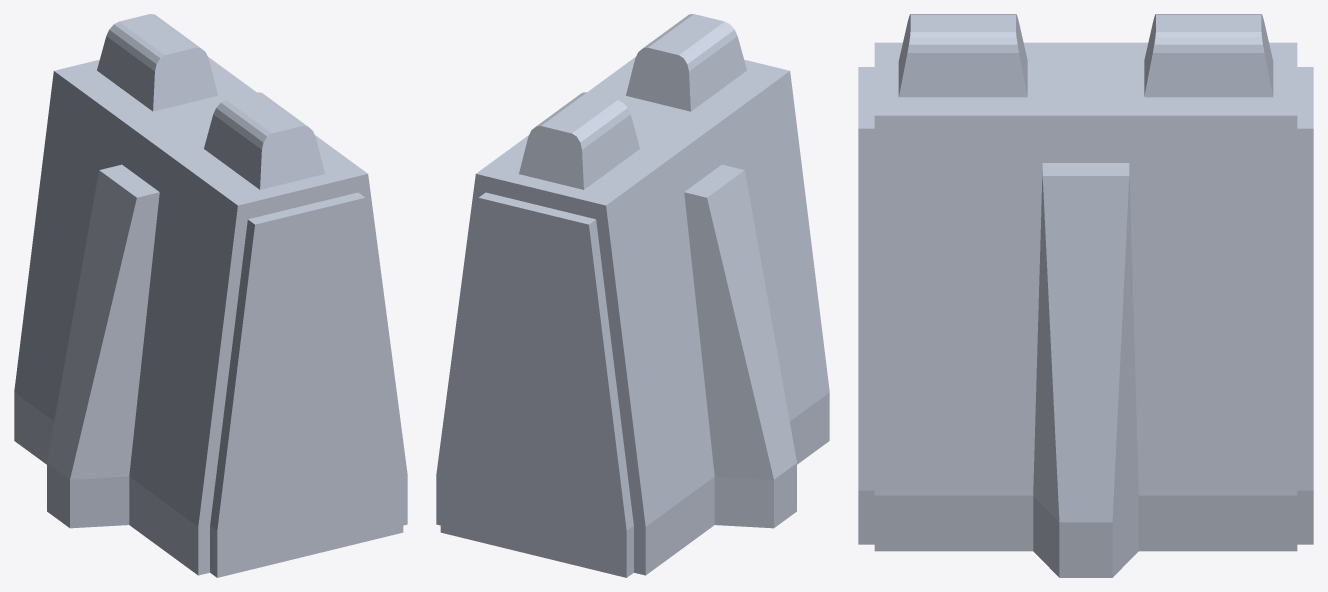
Rendered from WallNoPipes.fbx.
3 renders of one model, left to right at view 1: azimuth 30°, elevation 25°; view 2: azimuth 150°, elevation 25°; view 3: azimuth 270°, elevation 25°, orthographic. The views are drawn at different scales.
Visible parts, largest first — view 1: Base Baricade; view 2: Base Baricade; view 3: Base Baricade.
Boxes of the visible parts, bbox=[...] form: Base Baricade: bbox=[14, 14, 407, 577]; Base Baricade: bbox=[436, 14, 829, 577]; Base Baricade: bbox=[858, 14, 1313, 577].
Bounding box in the file's own units: 88.62 × 113 × 99.87.
